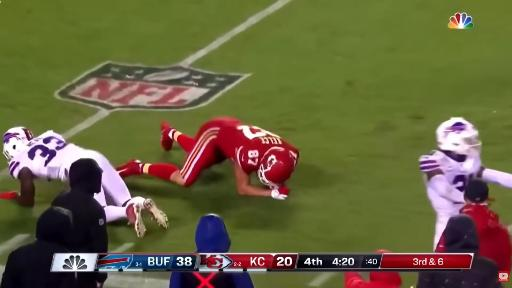Helmet: (436, 118, 481, 155), (258, 147, 295, 187), (4, 127, 33, 157)
Jersey: (218, 123, 298, 174), (419, 151, 481, 214), (9, 131, 82, 181)
Player: (4, 127, 168, 237), (118, 118, 298, 199), (419, 118, 511, 248)
